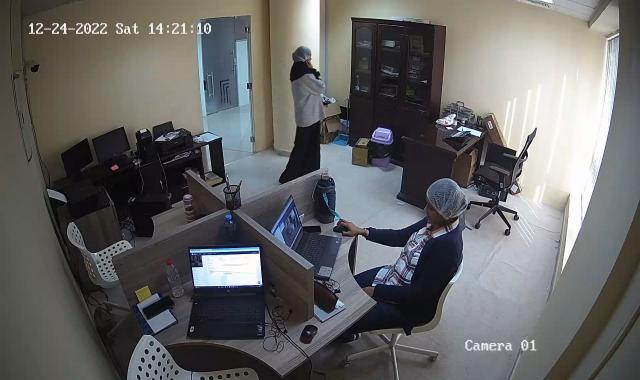hairnet: (425, 180, 468, 226), (291, 41, 313, 70)
